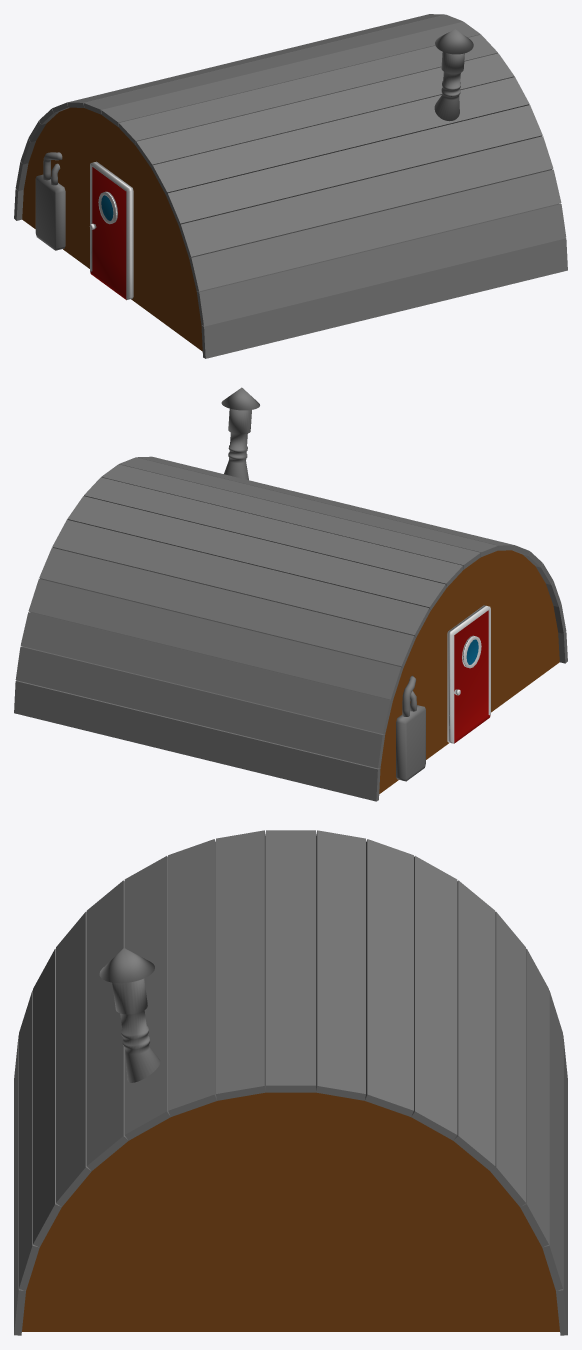
The model's file is Village_house_5.fbx.
3 renders of one model, top to bottom at view 1: azimuth 30°, elevation 25°; view 2: azimuth 150°, elevation 25°; view 3: azimuth 270°, elevation 25°, orthographic. The views are drawn at different scales.
Visible parts, largest first — view 1: Cylinder.002; view 2: Cylinder.002; view 3: Cylinder.002.
Part boxes in pixels (x1,y1,x2,y2): Cylinder.002: [14, 14, 567, 358]; Cylinder.002: [14, 387, 567, 801]; Cylinder.002: [14, 830, 567, 1335].
Bounding box in the file's own units: 1167 × 706 × 1057.
